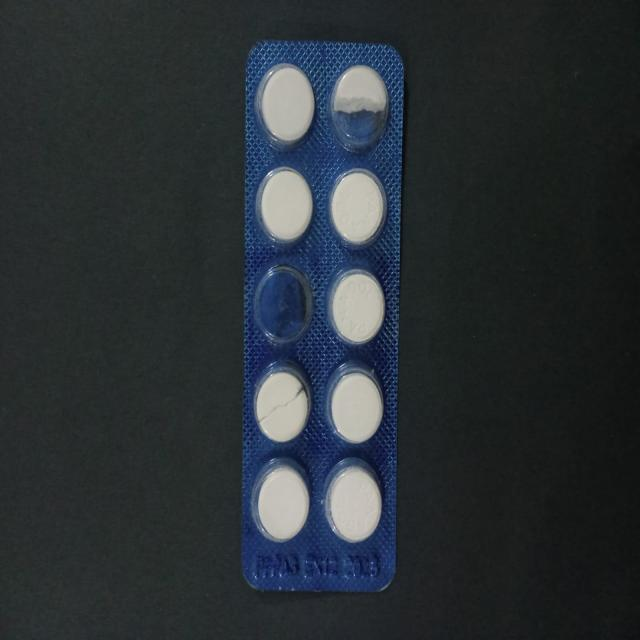defect: (327, 61, 391, 154), (251, 362, 315, 447), (252, 262, 314, 349)
